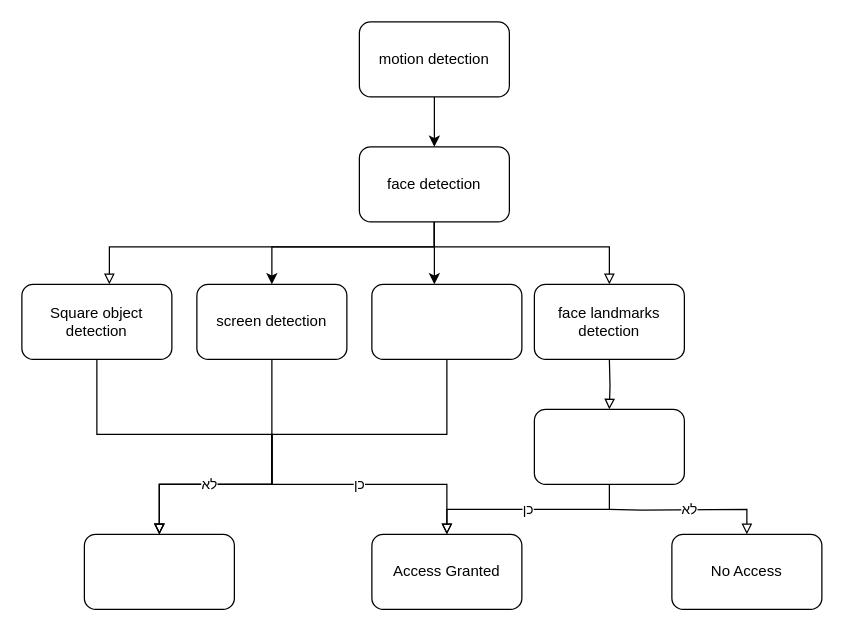
Some shapes in this 844 by 631 pixel diagram are drawn without their labels. The shapes that lost their labels are listed below. From the top down, each one's centre as x and y in pixels, then its label:
(446,321): smile test
(608,446): search familar face in database
(158,571): spoofing no entry
